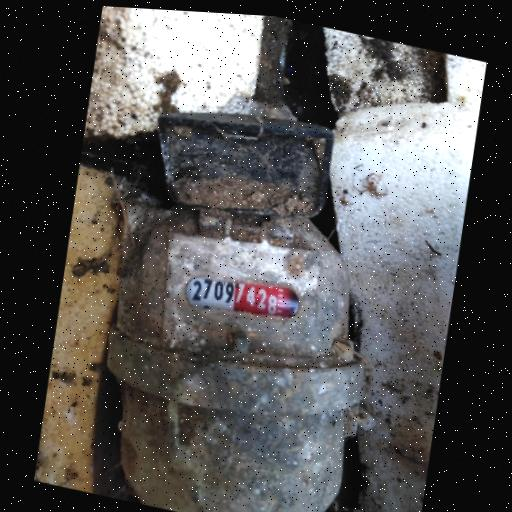0: (209, 277, 226, 310)
2: (184, 274, 205, 306), (252, 283, 269, 315)
4: (240, 281, 259, 313)
7: (197, 275, 216, 309), (231, 279, 249, 311)
8: (262, 284, 285, 319)
9: (219, 278, 238, 311)
border_water_meter_number: (177, 263, 305, 334)
